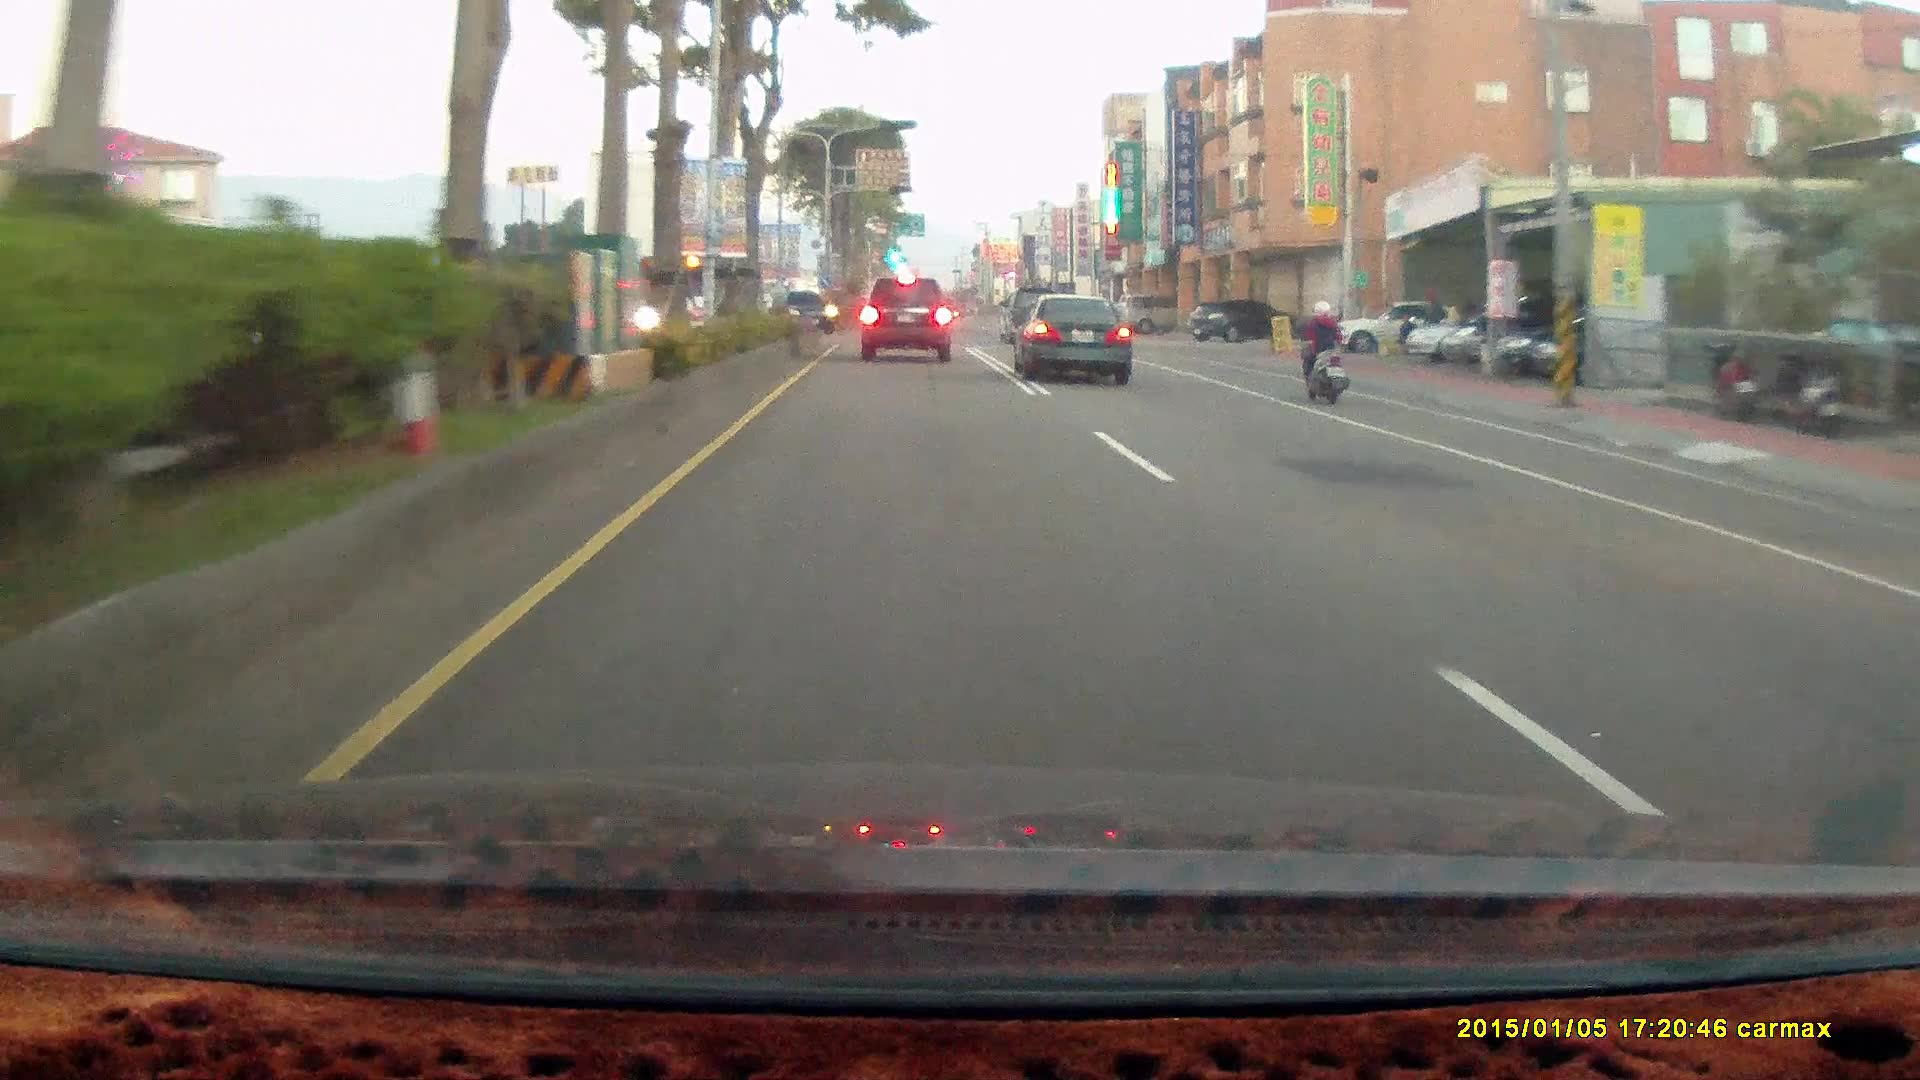pedestrian: (1425, 290, 1446, 347)
rider: (1283, 288, 1359, 416), (1292, 294, 1350, 402)
vehicle: (1529, 306, 1697, 384), (1492, 300, 1659, 376), (1008, 291, 1131, 382), (1443, 292, 1592, 366), (1021, 289, 1136, 385), (1316, 293, 1479, 356), (862, 269, 957, 358), (1319, 297, 1464, 353), (858, 276, 951, 363), (1405, 307, 1534, 364), (1185, 297, 1292, 343), (1191, 297, 1288, 345), (996, 284, 1061, 338), (1118, 290, 1201, 332), (772, 287, 836, 329)
